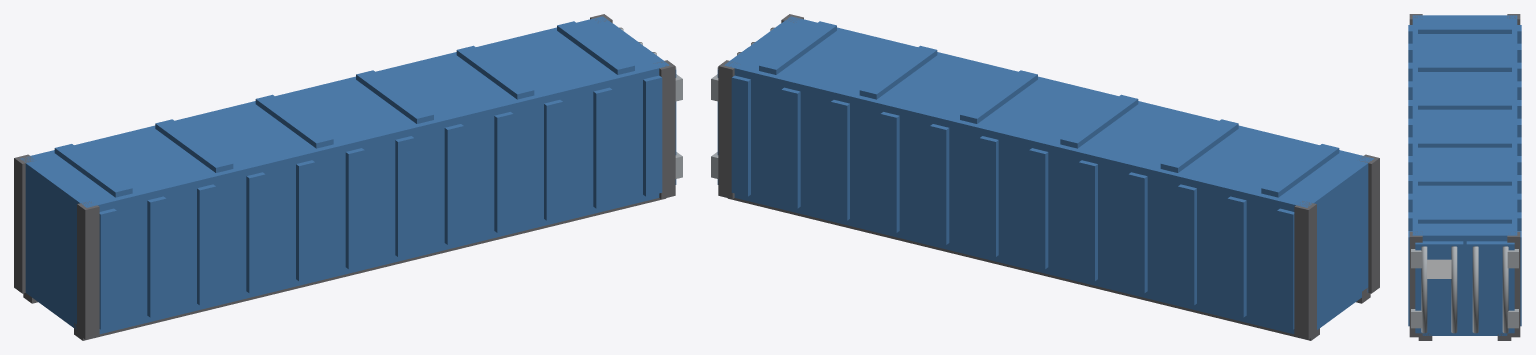
File: container_blue.glb
3 renders of one model, left to right at view 1: azimuth 30°, elevation 25°; view 2: azimuth 150°, elevation 25°; view 3: azimuth 270°, elevation 25°, orthographic. The views are drawn at different scales.
Parts seen in each view (by area): view 1: Merged_CityAccentBlue, Merged_RoofDark; view 2: Merged_CityAccentBlue, Merged_RoofDark; view 3: Merged_CityAccentBlue, Merged_PropsMetal, Merged_RoofDark, cont_data_plate.
Part boxes in pixels (box(x1,y1,x2,y2)): Merged_CityAccentBlue: box(20, 16, 676, 334); Merged_RoofDark: box(14, 14, 675, 340); Merged_CityAccentBlue: box(717, 16, 1373, 334); Merged_RoofDark: box(718, 14, 1379, 340); Merged_CityAccentBlue: box(1408, 15, 1521, 335); Merged_PropsMetal: box(1411, 246, 1518, 333); Merged_RoofDark: box(1409, 14, 1520, 340); cont_data_plate: box(1427, 259, 1451, 278).
Bounding box in the file's own units: 12.53 × 2.82 × 2.65.
